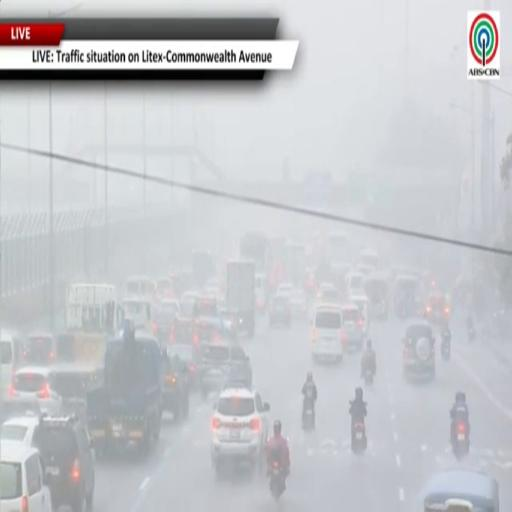car: (34, 415, 94, 511), (212, 384, 269, 472), (0, 441, 52, 511), (423, 469, 500, 511), (200, 342, 252, 397), (9, 366, 62, 414), (162, 351, 190, 422), (169, 316, 235, 345), (403, 322, 435, 379), (312, 304, 343, 361), (167, 344, 201, 389), (0, 330, 23, 394), (393, 275, 423, 318), (0, 415, 40, 446), (341, 303, 365, 350), (364, 274, 389, 319), (154, 299, 179, 343), (0, 396, 42, 422), (24, 332, 56, 365), (349, 294, 370, 337), (169, 315, 199, 345), (424, 293, 450, 326), (269, 295, 291, 326), (316, 283, 342, 305), (193, 296, 219, 318), (180, 291, 200, 317), (290, 288, 307, 318), (345, 271, 365, 296), (255, 272, 267, 312), (359, 250, 379, 270), (156, 277, 173, 299), (357, 263, 375, 276), (276, 283, 294, 295)
motorcycle: (452, 421, 469, 460), (270, 460, 285, 501), (351, 420, 367, 456), (361, 356, 375, 386), (303, 398, 315, 431), (441, 340, 450, 361), (364, 368, 374, 386), (467, 326, 476, 342)
truck: (87, 324, 166, 456), (52, 283, 120, 414), (225, 261, 255, 339), (240, 232, 269, 275), (192, 249, 215, 289), (285, 244, 306, 287)
